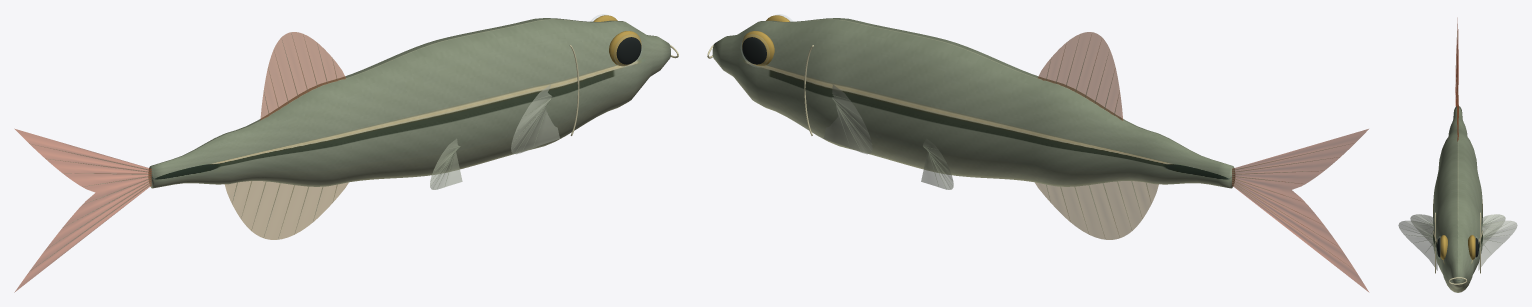
File: whitecloud-mobile.glb
3 views of the same model, side by side, from view 1: azimuth 30°, elevation 25°; view 2: azimuth 150°, elevation 25°; view 3: azimuth 270°, elevation 25° (orthographic). The views are drawn at different scales.
Visible parts, largest first — view 1: skin, tail, anal, dorsal, dorsal-ray, pectoral-left, pelvic-left, eye-pupil--1, eye-iris--1; view 2: skin, tail, anal, dorsal, dorsal-ray, pectoral-left, pelvic-left, eye-pupil--1, eye-iris--1; view 3: skin, pectoral-left, pelvic-left, eye-iris--1, dorsal-ray, tail, operculum, eye-pupil--1, dorsal.
Part boxes in pixels (x1,y1,x2,y2): skin: (148, 18, 670, 188); tail: (14, 129, 151, 292); anal: (225, 181, 348, 239); dorsal: (260, 32, 345, 120); dorsal-ray: (29, 32, 551, 269); pectoral-left: (511, 84, 559, 154); pelvic-left: (430, 138, 462, 189); eye-pupil--1: (616, 37, 641, 64); eye-iris--1: (593, 15, 641, 66); skin: (712, 18, 1234, 188); tail: (1232, 129, 1368, 291); anal: (1035, 181, 1158, 239); dorsal: (1038, 32, 1122, 120); dorsal-ray: (832, 37, 1346, 258); pectoral-left: (823, 84, 872, 154); pelvic-left: (921, 139, 953, 189); eye-pupil--1: (742, 37, 766, 64); eye-iris--1: (742, 15, 789, 66); skin: (1433, 106, 1482, 292); pectoral-left: (1398, 220, 1517, 270); pelvic-left: (1410, 214, 1505, 246); eye-iris--1: (1440, 235, 1475, 259); dorsal-ray: (1406, 31, 1507, 251); tail: (1455, 18, 1458, 106); operculum: (1435, 212, 1480, 284); eye-pupil--1: (1437, 238, 1478, 257); dorsal: (1457, 87, 1458, 141).
Size of the model in its own units: 0.6032 by 0.1794 by 0.1425.
Materials: 11 (1 with a texture image).
